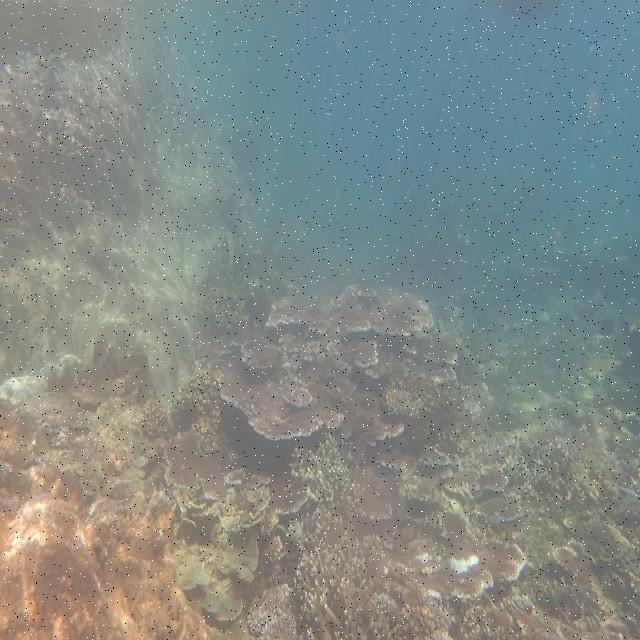reefs: (221, 284, 434, 446)
